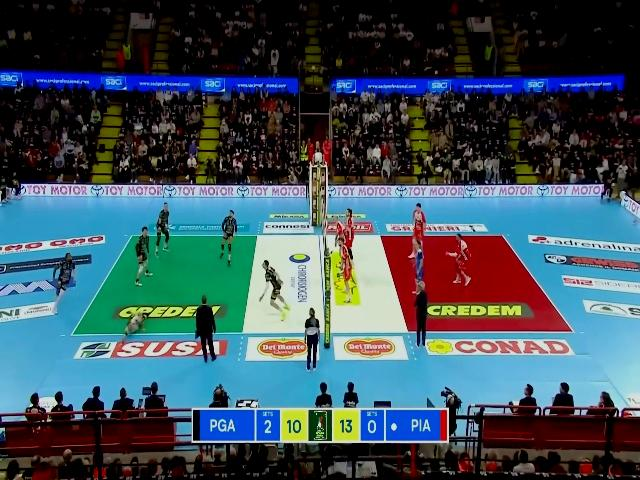volleyball court: (69, 234, 575, 336)
